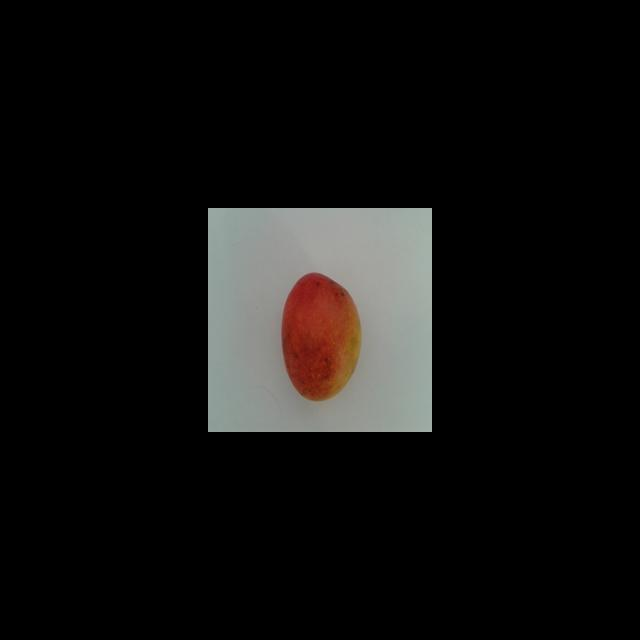Mango: (280, 271, 361, 401)
